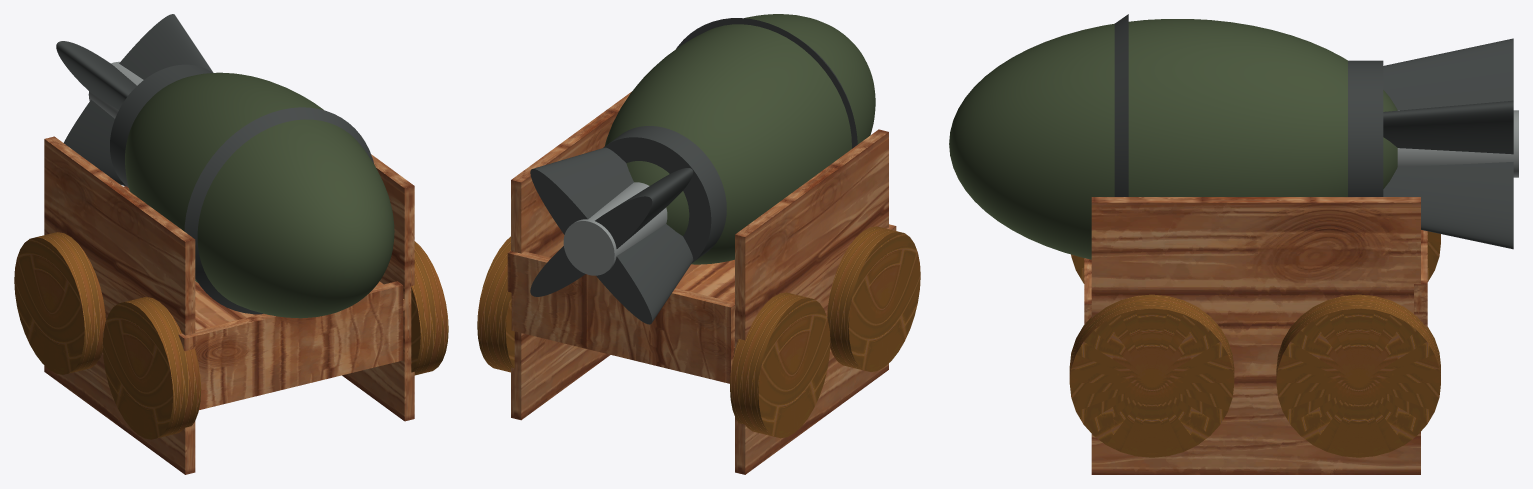
The model's file is Payload.glb.
3 renders of one model, left to right at view 1: azimuth 30°, elevation 25°; view 2: azimuth 150°, elevation 25°; view 3: azimuth 270°, elevation 25°, orthographic. The views are drawn at different scales.
Parts seen in each view (by area): view 1: MeshInstance3D2, MeshInstance3D9, MeshInstance3D10, CSGCylinder3D42, CSGCylinder3D32, MeshInstance3D4, MeshInstance3D5, MeshInstance3D3, CSGCylinder3D23, MeshInstance3D7, MeshInstance3D8, MeshInstance3D (+1 smaller); view 2: MeshInstance3D2, MeshInstance3D9, MeshInstance3D11, CSGCylinder3D32, CSGCylinder3D42, MeshInstance3D5, MeshInstance3D4, MeshInstance3D7, MeshInstance3D8, MeshInstance3D6, CSGCylinder3D2, MeshInstance3D (+1 smaller); view 3: MeshInstance3D2, MeshInstance3D4, CSGCylinder3D23, CSGCylinder3D2, MeshInstance3D8, MeshInstance3D5, MeshInstance3D7, MeshInstance3D3, MeshInstance3D6, MeshInstance3D11.
Part boxes in pixels (<box>): MeshInstance3D2: <box>125,72,394,318</box>; MeshInstance3D9: <box>44,136,195,474</box>; MeshInstance3D10: <box>178,281,403,409</box>; CSGCylinder3D42: <box>102,297,201,439</box>; CSGCylinder3D32: <box>14,232,105,374</box>; MeshInstance3D4: <box>342,154,414,421</box>; MeshInstance3D5: <box>64,14,213,186</box>; MeshInstance3D3: <box>184,107,373,314</box>; CSGCylinder3D23: <box>411,241,448,375</box>; MeshInstance3D7: <box>110,64,212,187</box>; MeshInstance3D8: <box>56,41,136,109</box>; MeshInstance3D: <box>195,281,404,330</box>; MeshInstance3D2: <box>604,14,875,264</box>; MeshInstance3D9: <box>735,129,888,474</box>; MeshInstance3D11: <box>507,251,734,383</box>; CSGCylinder3D32: <box>730,292,830,438</box>; CSGCylinder3D42: <box>827,226,920,371</box>; MeshInstance3D5: <box>530,147,693,324</box>; MeshInstance3D4: <box>511,91,631,420</box>; MeshInstance3D7: <box>603,126,726,262</box>; MeshInstance3D8: <box>530,168,693,296</box>; MeshInstance3D6: <box>563,182,667,275</box>; CSGCylinder3D2: <box>477,236,514,372</box>; MeshInstance3D: <box>675,259,734,353</box>; MeshInstance3D2: <box>949,19,1397,259</box>; MeshInstance3D4: <box>1091,197,1420,474</box>; CSGCylinder3D23: <box>1069,294,1234,457</box>; CSGCylinder3D2: <box>1276,294,1440,457</box>; MeshInstance3D8: <box>1383,38,1513,249</box>; MeshInstance3D5: <box>1383,100,1513,154</box>; MeshInstance3D7: <box>1348,60,1383,196</box>; MeshInstance3D3: <box>1114,14,1128,196</box>; MeshInstance3D6: <box>1397,110,1518,177</box>; MeshInstance3D11: <box>1414,230,1427,327</box>.
Size of the model in its own units: 1.58 by 1.79 by 2.42.
5 materials, 2 textured.
